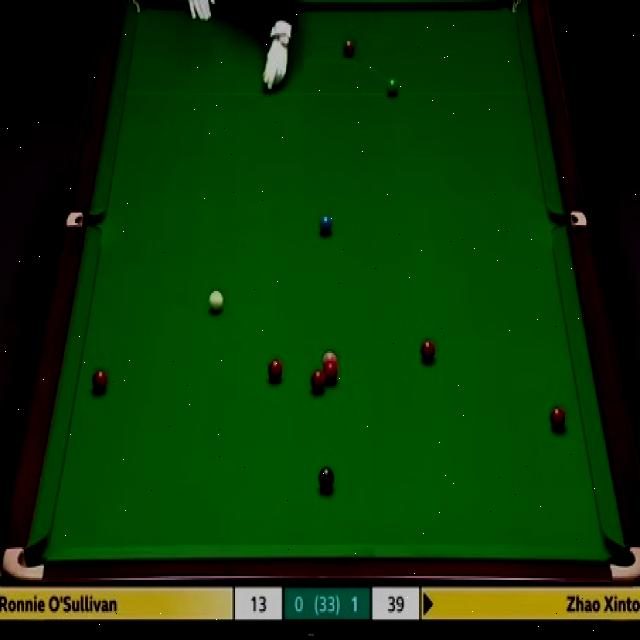black-ball: (319, 464, 335, 491)
blue-ball: (318, 212, 334, 235)
brown-ball: (342, 38, 355, 58)
green-ball: (385, 76, 399, 97)
pink-ball: (322, 351, 338, 366)
red-ball: (92, 367, 108, 394), (550, 408, 567, 431), (420, 339, 435, 364), (267, 359, 283, 382), (322, 363, 338, 384), (311, 371, 326, 392)
white-ball: (206, 289, 224, 315)
